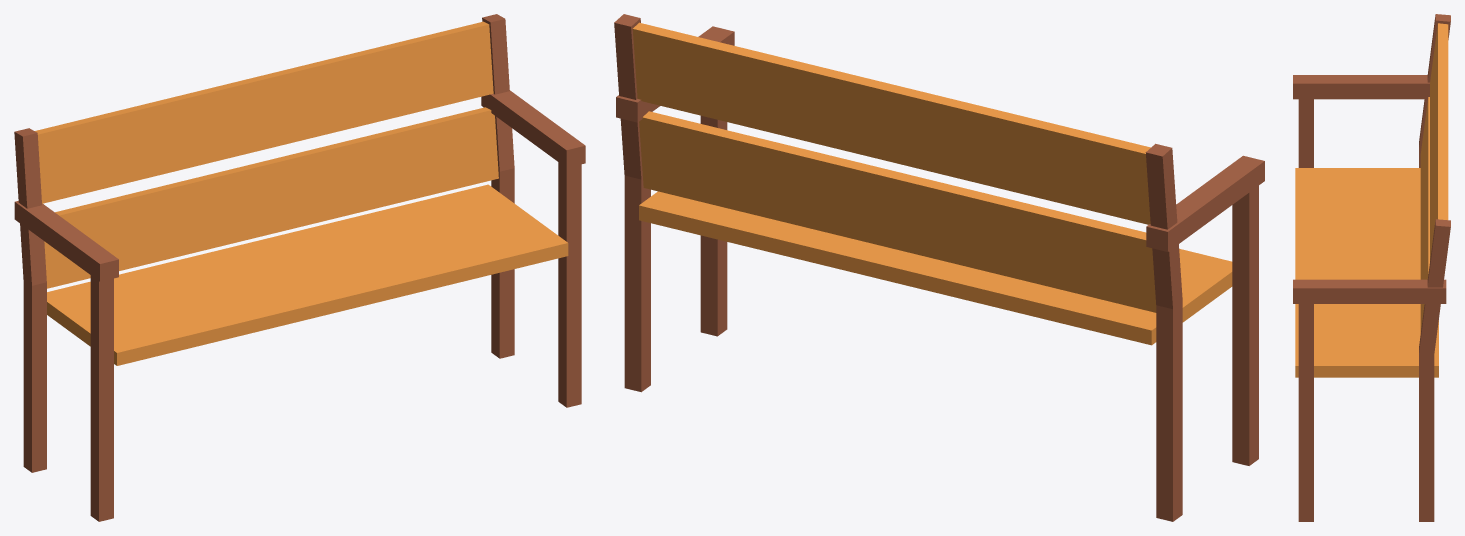
File: Bench_01a.fbx
3 views of the same model, side by side, from view 1: azimuth 30°, elevation 25°; view 2: azimuth 150°, elevation 25°; view 3: azimuth 270°, elevation 25° (orthographic). The views are drawn at different scales.
Parts seen in each view (by area): view 1: Bench_01a; view 2: Bench_01a; view 3: Bench_01a.
Boxes of the visible parts, x1=… form: Bench_01a: x1=14, y1=14, x2=585, y2=521; Bench_01a: x1=614, y1=14, x2=1264, y2=521; Bench_01a: x1=1293, y1=14, x2=1450, y2=521.
Bounding box in the file's own units: 392 × 254 × 123.
